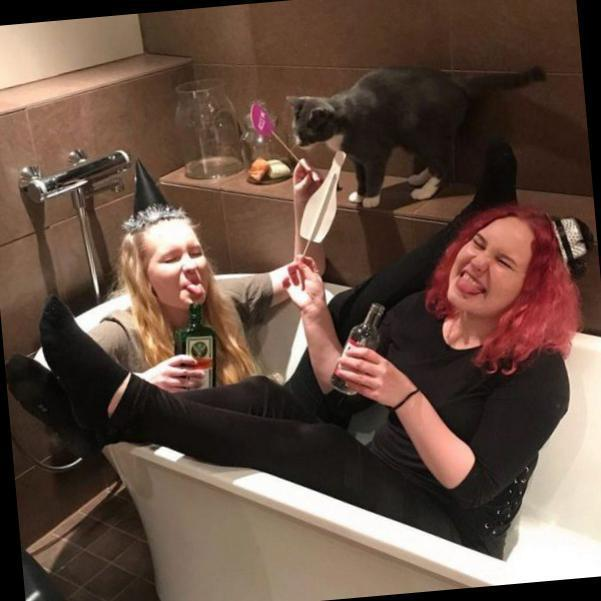Drunk: (447, 215, 524, 312), (143, 218, 211, 309)
